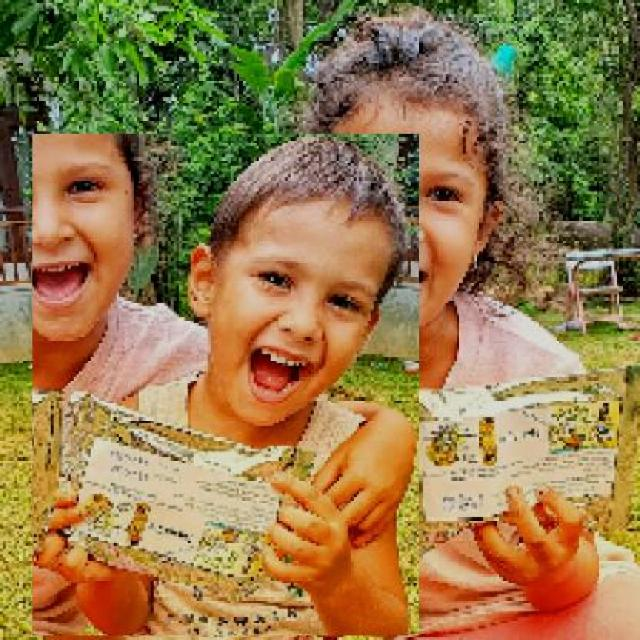child: (240, 5, 620, 638), (31, 134, 420, 637)
